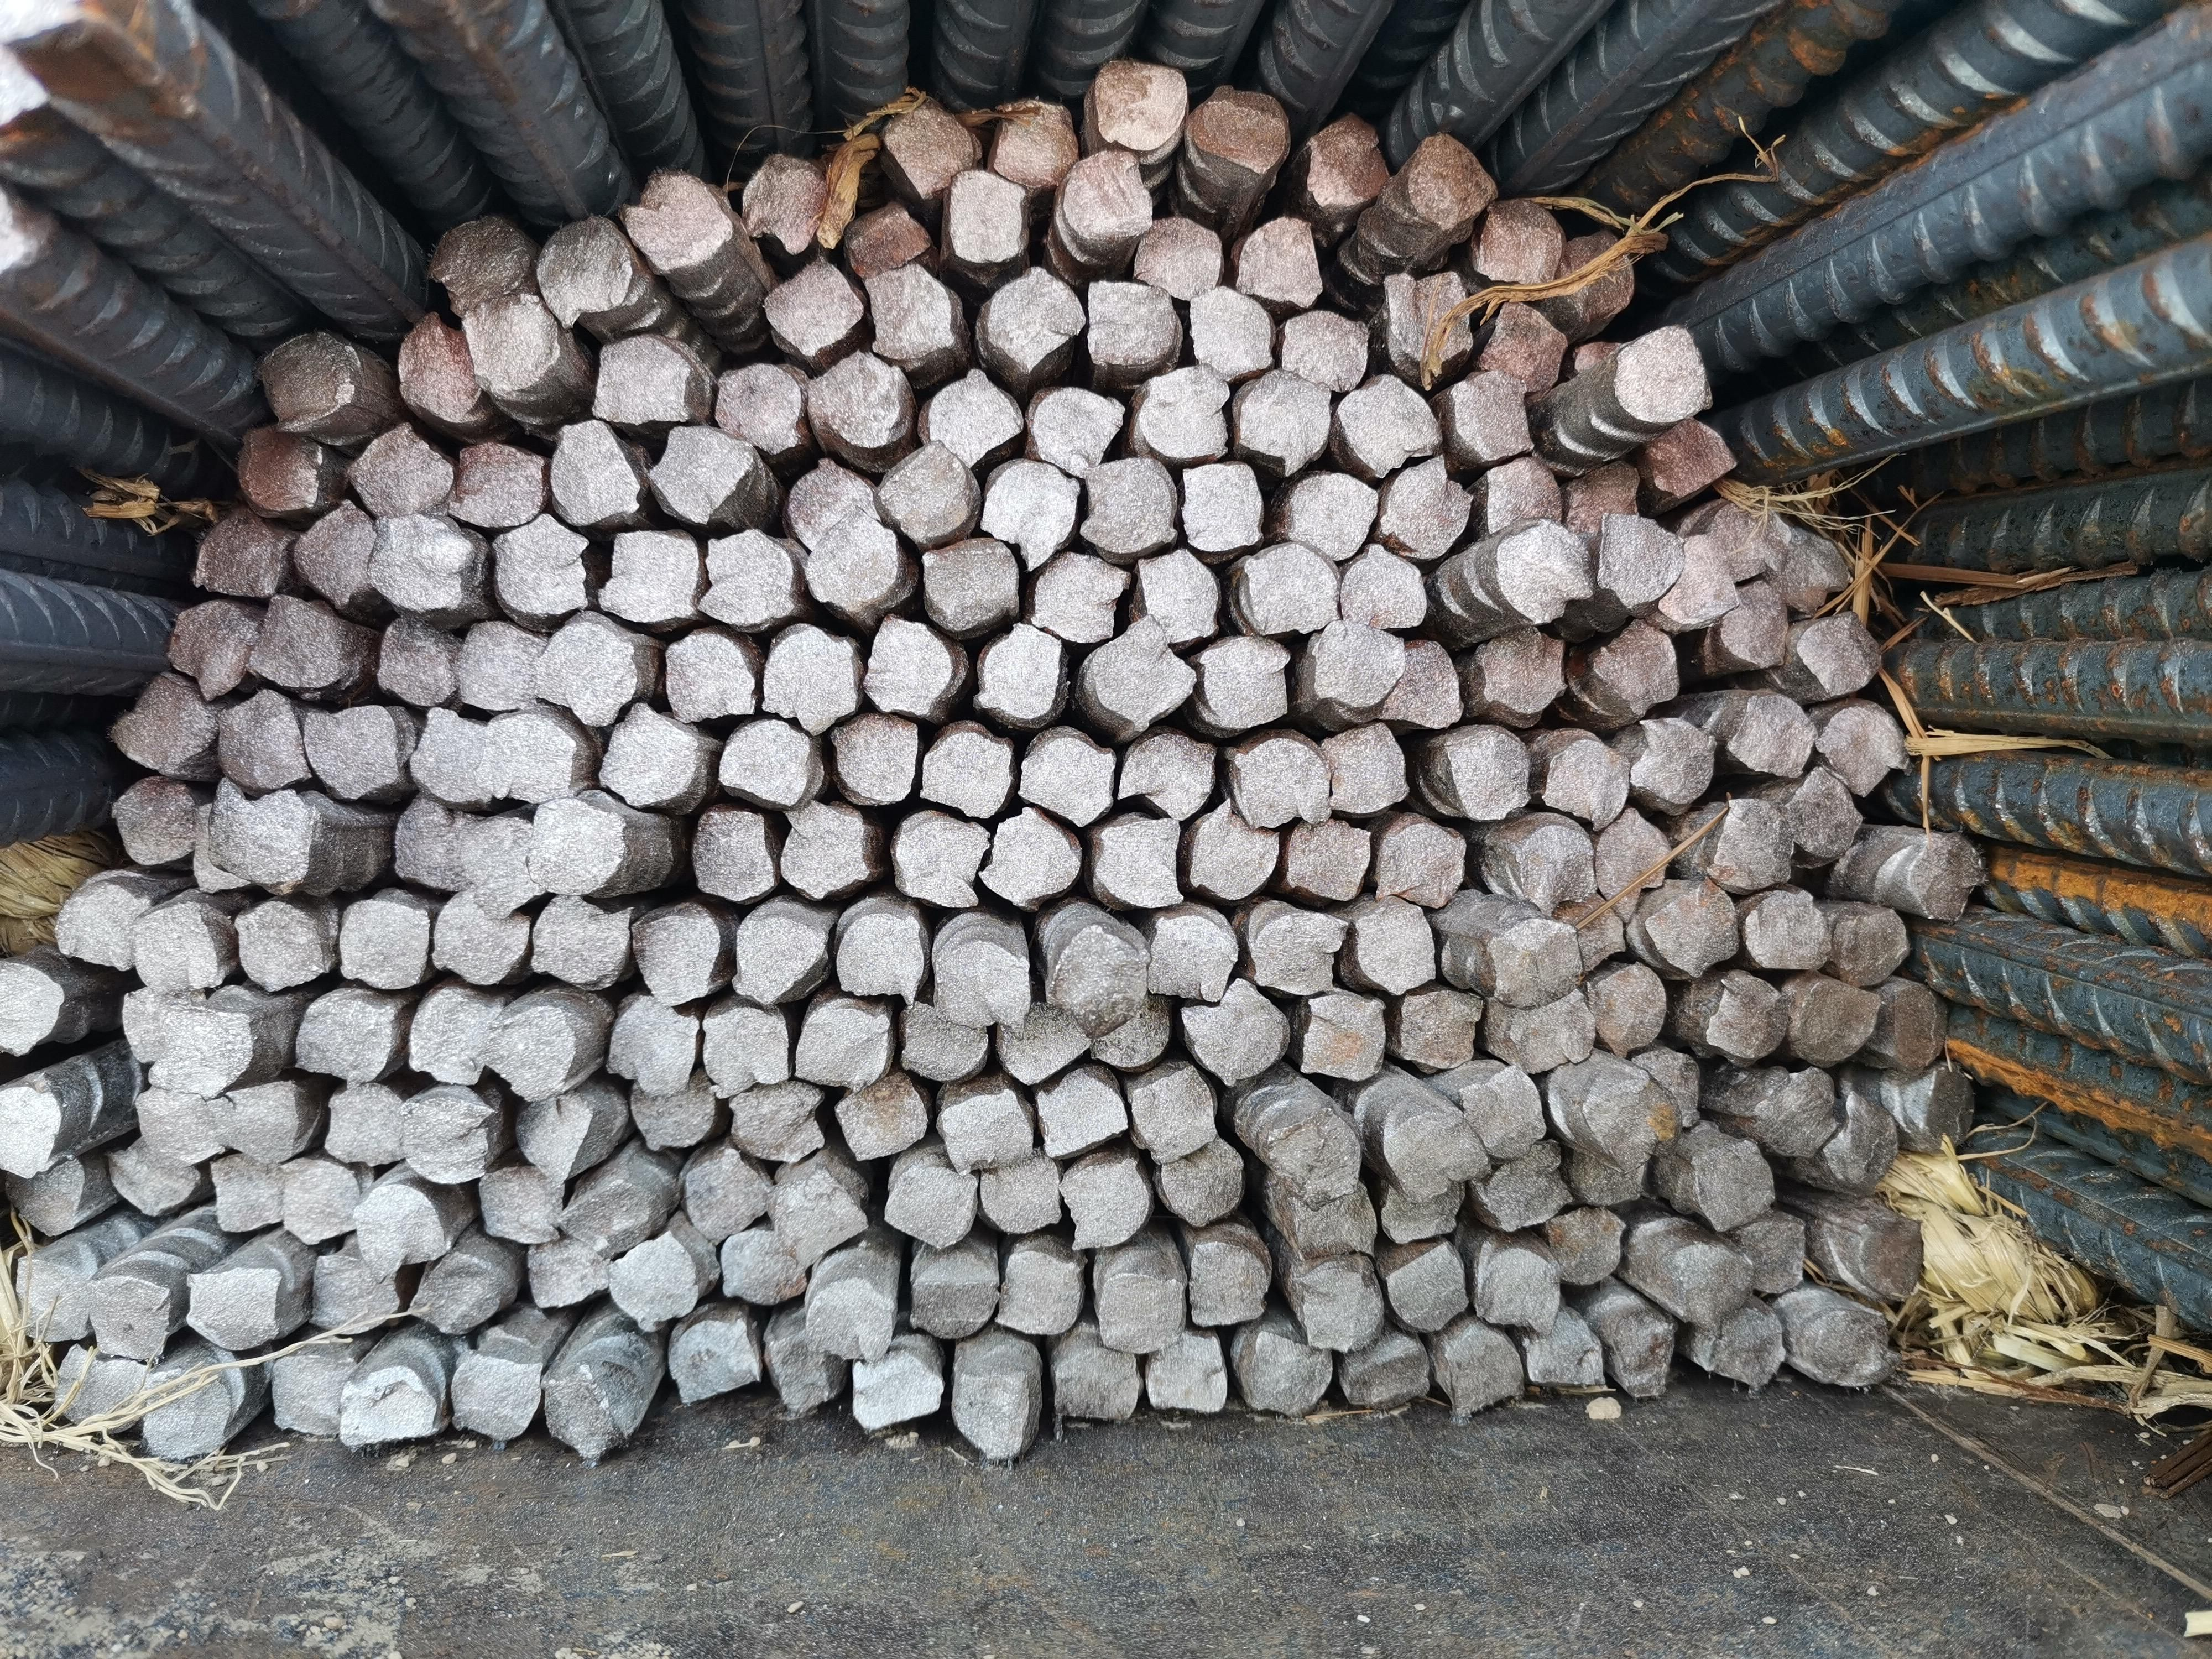rebar: (204, 774, 319, 897), (280, 987, 405, 1091), (529, 216, 643, 329), (533, 620, 643, 737), (618, 165, 737, 274), (1046, 920, 1155, 1036), (753, 619, 859, 738), (483, 515, 592, 627), (595, 698, 703, 812), (1229, 367, 1337, 480), (547, 410, 642, 537), (1230, 730, 1339, 841), (1091, 620, 1199, 732), (1608, 316, 1710, 433), (440, 1339, 549, 1448), (417, 215, 531, 317), (243, 591, 354, 693), (979, 457, 1078, 573), (145, 999, 256, 1103), (395, 984, 504, 1090), (984, 264, 1084, 379), (649, 417, 754, 522), (529, 796, 635, 902), (332, 1360, 440, 1463), (1488, 515, 1592, 623), (1381, 1094, 1489, 1199), (1484, 912, 1592, 1016), (1335, 371, 1439, 482), (1024, 545, 1130, 650), (695, 523, 799, 631), (259, 327, 361, 437), (299, 703, 409, 804), (593, 529, 706, 627), (343, 420, 458, 515), (537, 1358, 630, 1474), (397, 1087, 502, 1192), (402, 701, 499, 815), (9, 1237, 102, 1352), (1183, 88, 1298, 181), (922, 364, 1026, 469), (1184, 979, 1287, 1084), (824, 901, 925, 1006), (977, 804, 1079, 909), (782, 449, 881, 557), (1113, 727, 1220, 826), (163, 598, 263, 705), (178, 1259, 290, 1354), (215, 682, 309, 796), (1401, 122, 1496, 234), (445, 618, 550, 718), (331, 893, 431, 997), (1374, 270, 1475, 375), (1076, 455, 1182, 556), (107, 675, 213, 773), (135, 1358, 233, 1463), (860, 612, 959, 718), (393, 309, 481, 427), (367, 517, 479, 609), (777, 793, 872, 905), (97, 1128, 201, 1229), (604, 1234, 706, 1337), (1093, 50, 1194, 154), (860, 262, 959, 367), (1292, 984, 1392, 1090), (1790, 1297, 1890, 1401), (581, 338, 698, 427), (227, 425, 332, 523), (730, 905, 827, 1010), (1128, 1063, 1225, 1170), (1186, 797, 1281, 904), (738, 142, 831, 252), (975, 619, 1067, 731), (929, 1087, 1044, 1176), (707, 364, 809, 463), (917, 534, 1020, 632), (820, 711, 922, 811), (602, 992, 700, 1095), (477, 711, 581, 809), (893, 811, 992, 915), (933, 931, 1032, 1035), (1234, 206, 1330, 311), (1028, 1067, 1133, 1162), (1590, 615, 1683, 724), (77, 1269, 177, 1369), (1468, 189, 1567, 290), (761, 255, 860, 356), (528, 894, 627, 994), (1195, 638, 1296, 737), (348, 1180, 452, 1277), (1643, 879, 1740, 982), (128, 900, 224, 1004), (1377, 456, 1473, 559), (1592, 505, 1687, 609), (1324, 716, 1412, 828), (888, 102, 987, 202), (1241, 544, 1340, 641), (1014, 734, 1115, 831), (1310, 611, 1408, 713), (653, 625, 757, 722), (1342, 540, 1438, 643), (1751, 1060, 1840, 1170), (1590, 804, 1672, 921), (1146, 909, 1245, 1006), (1684, 1133, 1782, 1233), (1137, 362, 1233, 463), (1047, 1327, 1142, 1428), (1631, 713, 1724, 816), (1083, 275, 1176, 380), (994, 93, 1084, 199), (1062, 145, 1152, 251), (882, 439, 971, 545), (1459, 1060, 1548, 1167), (201, 1146, 298, 1245), (305, 1246, 402, 1343), (461, 813, 546, 925), (832, 1070, 931, 1167), (1348, 901, 1446, 999), (463, 291, 559, 391), (1028, 387, 1128, 483), (882, 1153, 977, 1253), (452, 434, 546, 535), (1281, 464, 1376, 564), (486, 1006, 580, 1109), (426, 894, 528, 989), (773, 1165, 867, 1266), (1095, 816, 1190, 917), (1583, 1066, 1684, 1161), (992, 1242, 1083, 1345), (1485, 1141, 1577, 1244), (1269, 1102, 1361, 1206), (131, 1082, 239, 1170), (233, 901, 329, 999), (53, 877, 151, 970), (268, 1339, 363, 1439), (1250, 905, 1350, 999), (623, 1072, 727, 1160), (727, 1079, 833, 1168), (817, 351, 904, 457), (713, 722, 820, 808), (293, 497, 379, 604), (1186, 285, 1279, 383), (846, 1346, 944, 1438), (1000, 994, 1092, 1092), (1478, 449, 1569, 550), (789, 1004, 890, 1094), (932, 1083, 1035, 1172), (1159, 1128, 1245, 1232), (49, 1340, 143, 1437), (368, 614, 463, 707), (316, 1072, 410, 1167), (801, 1273, 896, 1369), (1053, 1156, 1150, 1250), (1093, 1264, 1188, 1358), (1290, 1177, 1385, 1272), (943, 165, 1033, 264), (910, 1249, 1002, 1349), (1708, 799, 1798, 897), (800, 526, 909, 608), (1477, 295, 1566, 395), (1379, 633, 1469, 734), (191, 509, 286, 603), (670, 1314, 761, 1412), (917, 727, 1009, 824), (975, 1144, 1066, 1241), (1287, 812, 1377, 909), (1512, 824, 1603, 921), (679, 1148, 769, 1248), (1668, 1234, 1757, 1334), (380, 795, 467, 896), (1179, 460, 1266, 561), (633, 907, 719, 1009), (1819, 697, 1906, 800), (1604, 1293, 1682, 1404), (1306, 113, 1388, 220), (701, 1008, 795, 1102), (1725, 689, 1818, 782), (1789, 973, 1881, 1066), (1243, 1326, 1333, 1422), (1379, 820, 1470, 916), (1133, 552, 1223, 650), (1892, 836, 1990, 925), (1442, 1330, 1530, 1428), (1446, 723, 1529, 826), (270, 1157, 363, 1249), (951, 1362, 1037, 1460), (1589, 953, 1667, 1062), (1449, 369, 1533, 471), (557, 1177, 661, 1260), (1542, 737, 1632, 830), (1472, 1244, 1563, 1335), (1698, 975, 1788, 1066), (108, 774, 196, 870), (475, 1162, 571, 1249), (1277, 308, 1373, 395), (1371, 1160, 1466, 1248), (1480, 623, 1566, 722), (1501, 989, 1600, 1071), (1740, 885, 1829, 978), (1824, 1087, 1902, 1192), (410, 1251, 504, 1337), (689, 807, 771, 906), (1187, 1238, 1271, 1333), (1523, 1305, 1608, 1399), (1658, 530, 1739, 630), (1385, 1244, 1473, 1334), (1828, 898, 1914, 989), (1144, 1327, 1230, 1420), (1699, 1299, 1785, 1391), (114, 984, 206, 1070), (1131, 218, 1225, 302), (1562, 227, 1637, 329), (1564, 457, 1644, 553), (1790, 762, 1864, 866), (1, 952, 69, 1067), (713, 1226, 807, 1308), (1632, 1029, 1705, 1133), (1, 1080, 77, 1177), (1396, 984, 1481, 1072), (902, 999, 992, 1082), (1715, 576, 1788, 677), (1647, 414, 1730, 504), (519, 1100, 604, 1184), (1302, 1265, 1384, 1353), (1551, 1203, 1631, 1290), (1710, 492, 1788, 583), (222, 1081, 310, 1160), (518, 1234, 609, 1310), (1794, 615, 1875, 701), (1556, 891, 1631, 980), (1348, 1338, 1431, 1416), (1785, 528, 1856, 619), (1850, 1217, 1929, 1299), (1881, 978, 1945, 1078), (16, 1150, 86, 1239), (1088, 1002, 1172, 1076), (846, 205, 931, 275), (770, 1326, 838, 1413), (1743, 1213, 1810, 1295), (1562, 889, 1626, 974), (1579, 459, 1638, 543), (1576, 1146, 1651, 1208), (1923, 1064, 1971, 1152)
